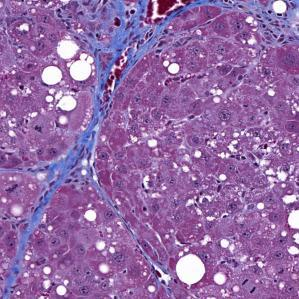fibrosis: (76, 11, 150, 98), (48, 150, 98, 196)
